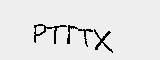Г: (65, 21, 79, 50)
Р: (31, 22, 48, 44)
Т: (47, 20, 65, 48), (78, 24, 93, 51)
Х: (91, 28, 117, 54)
